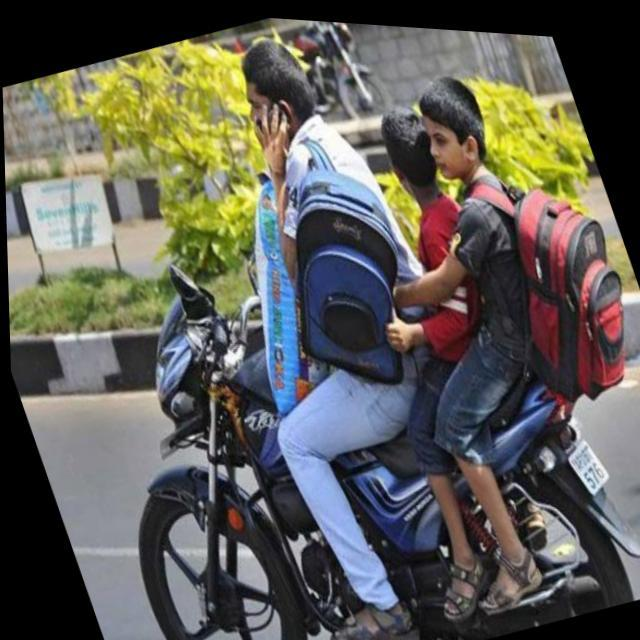Nonhelmet: (226, 30, 314, 144), (414, 68, 498, 184), (378, 107, 440, 206)
